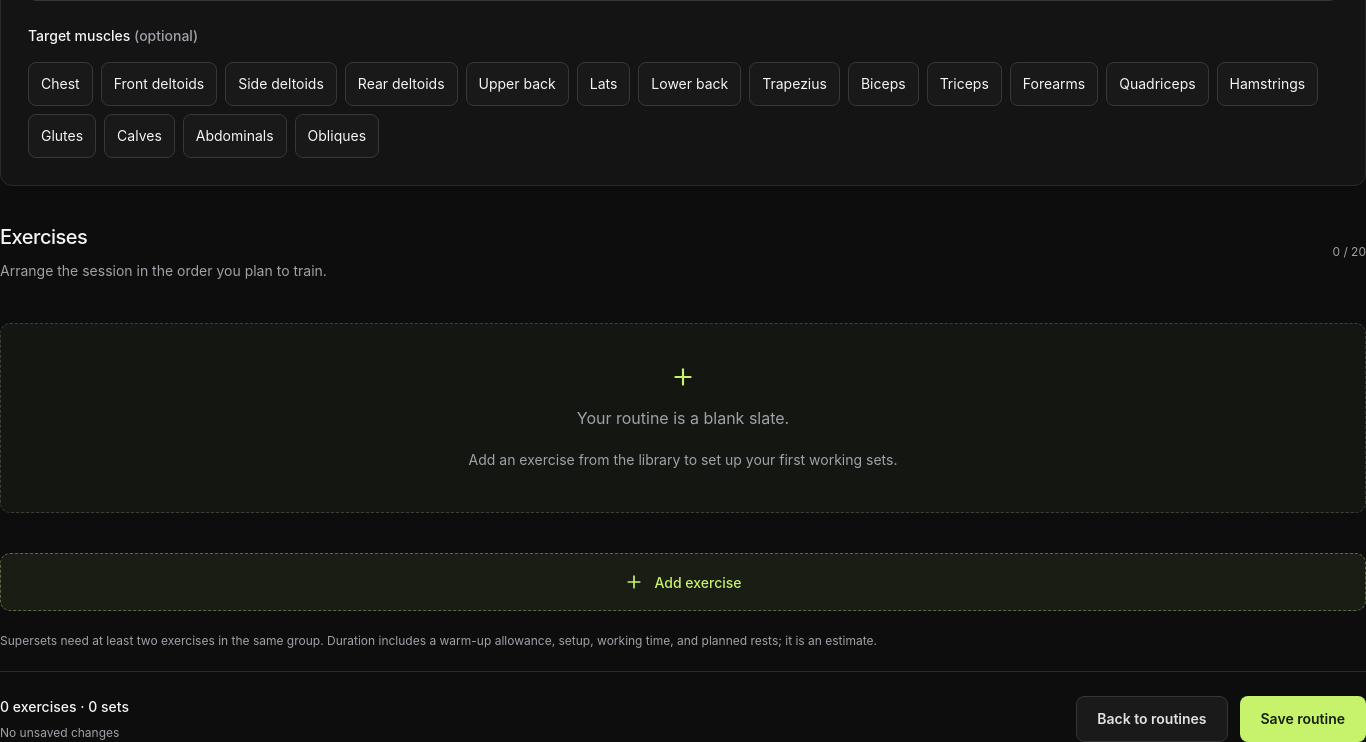
it: Routine builder › reuses a recovered creation that already reached the library before adding it to a routine
(page scrolled)
Click the button "Add exercise": (683, 582) x1=0 y1=553 x2=1365 y2=611
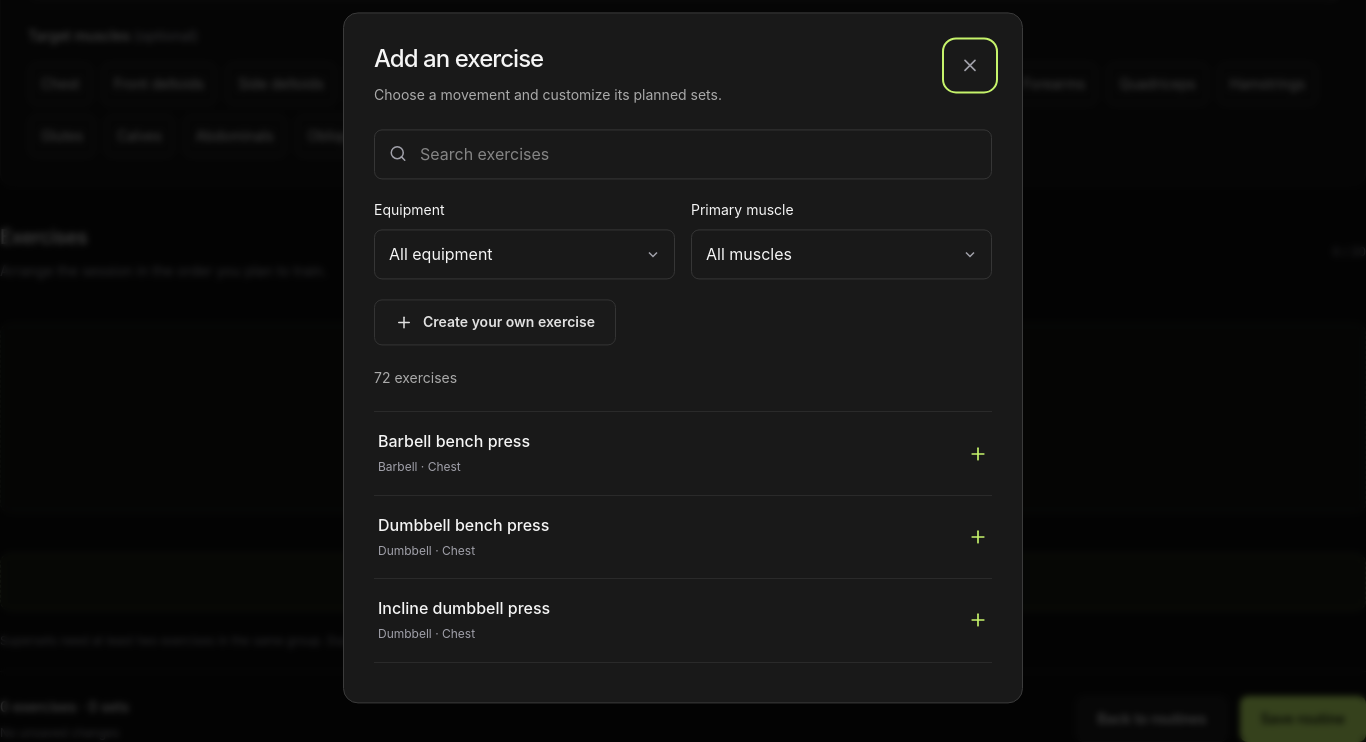
Click the button "Create your own exercise": (495, 322) x1=374 y1=299 x2=616 y2=345
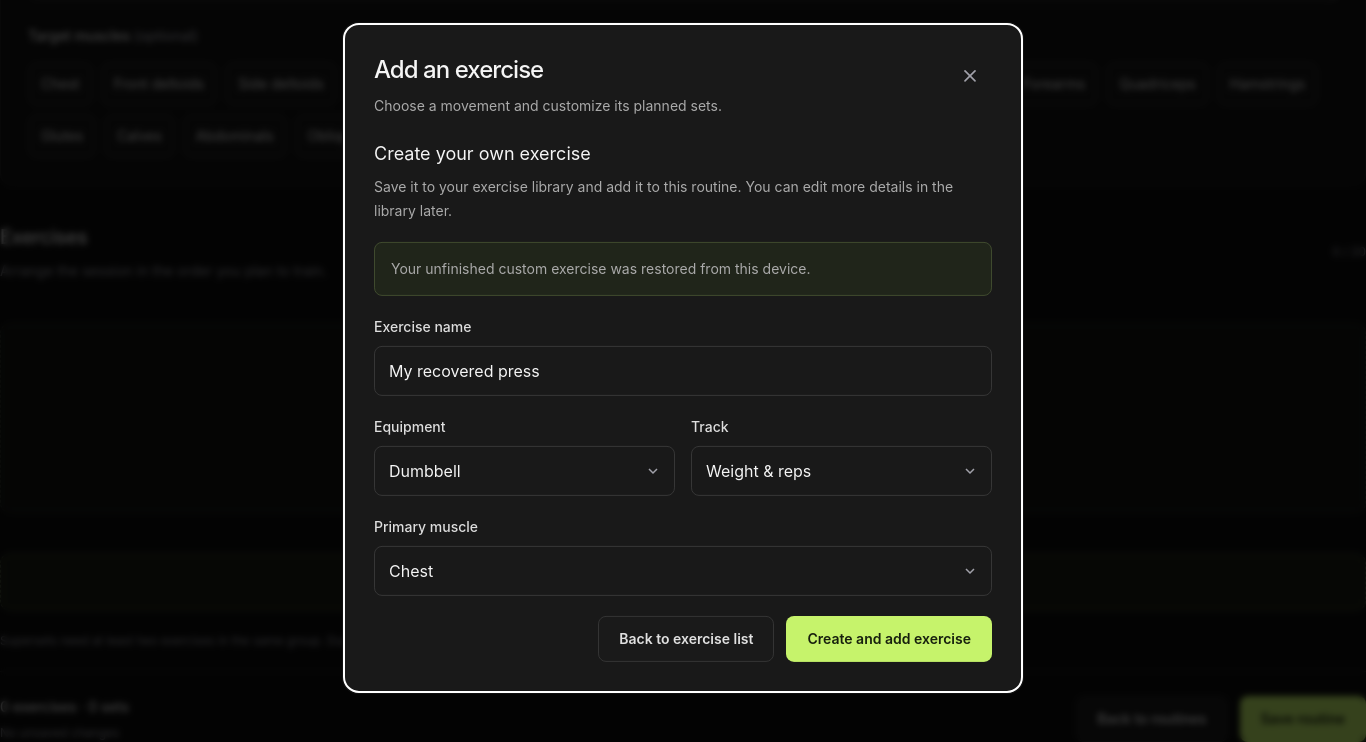
Expected: the field labelled "Exercise name" holds "My recovered press", x1=374 y1=346 x2=992 y2=396
Click the button "Create and add exercise": (889, 639) x1=786 y1=616 x2=992 y2=662
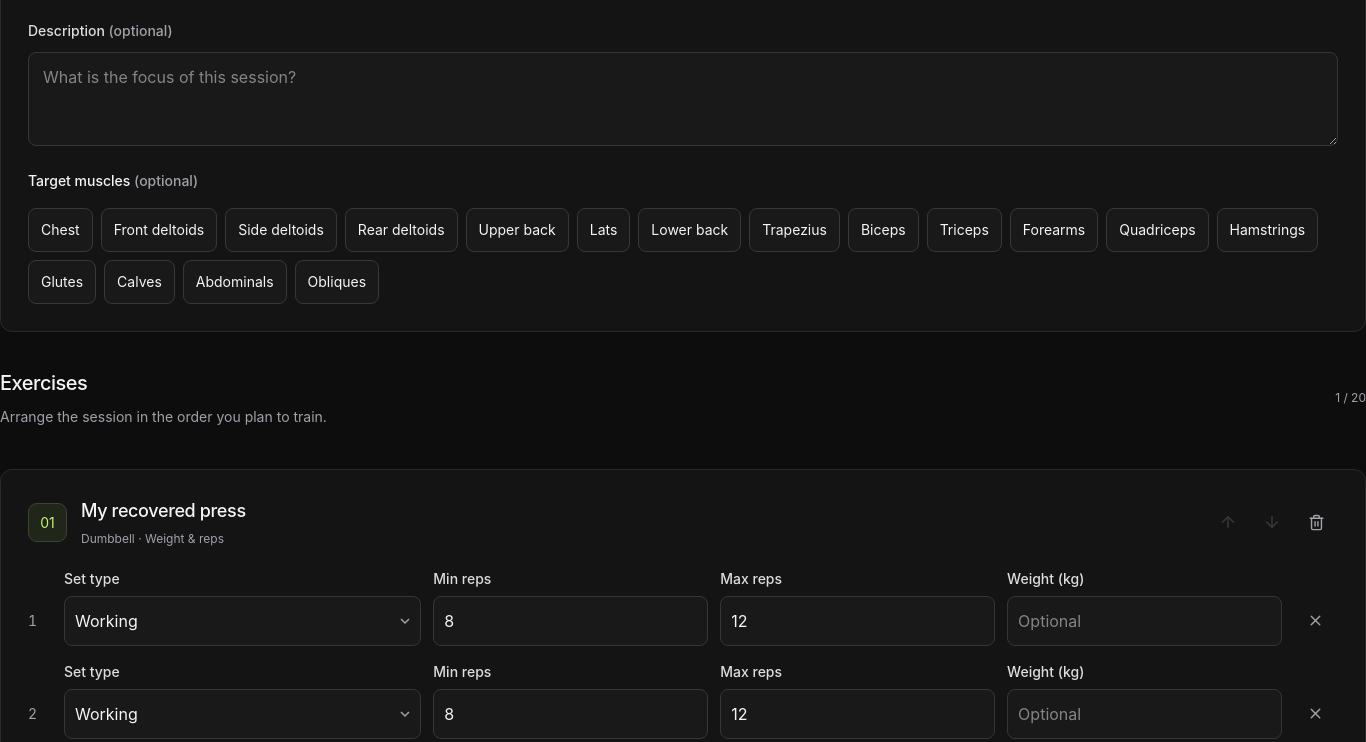
Expected: the dialog is gone
Expected: the heading "My recovered press" is shown, x1=81 y1=500 x2=246 y2=521
